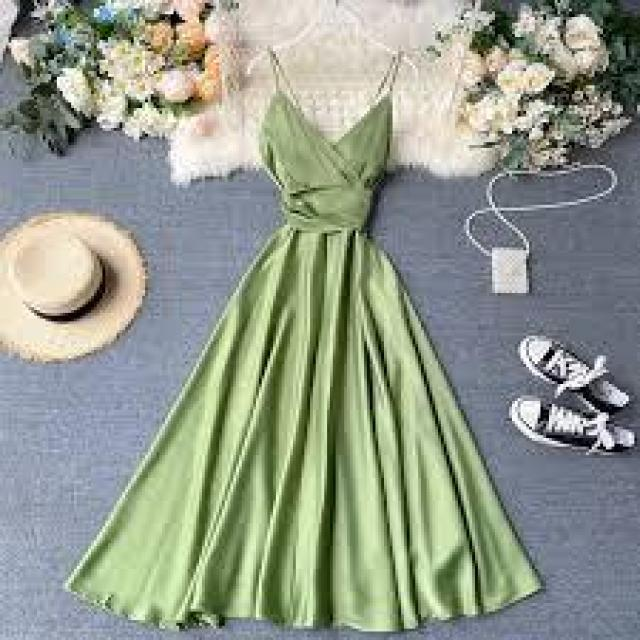dress: (108, 54, 501, 640)
